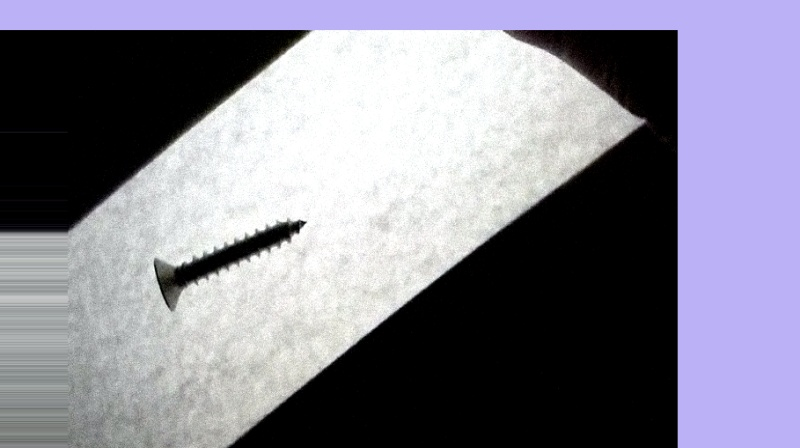S001: (150, 213, 311, 313)
